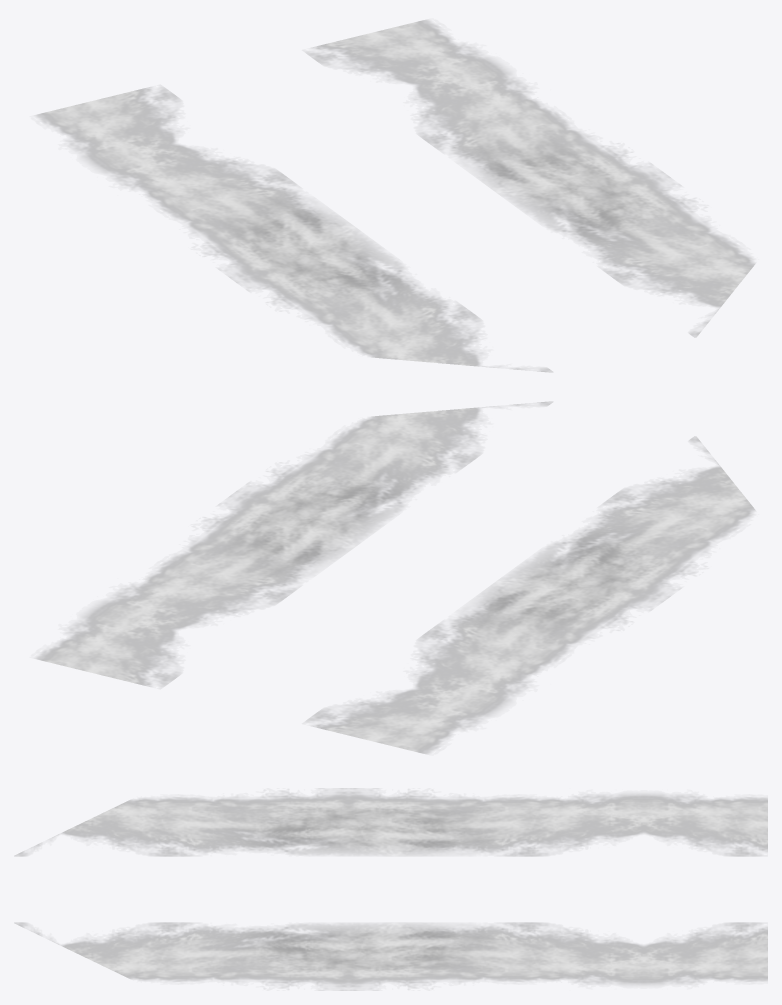
The model's file is side_wake.glb.
3 views of the same model, one above another, from view 1: azimuth 30°, elevation 25°; view 2: azimuth 150°, elevation 25°; view 3: azimuth 270°, elevation 25° (orthographic). The views are drawn at different scales.
Visible parts, largest first — view 1: SideWake; view 2: SideWake; view 3: SideWake.
Part boxes in pixels (bbox=[...]): SideWake: bbox=[37, 20, 754, 371]; SideWake: bbox=[37, 402, 754, 753]; SideWake: bbox=[15, 788, 767, 990].
Size of the model in its own units: 5.92 by 0 by 9.29.
1 material, 1 textured.
